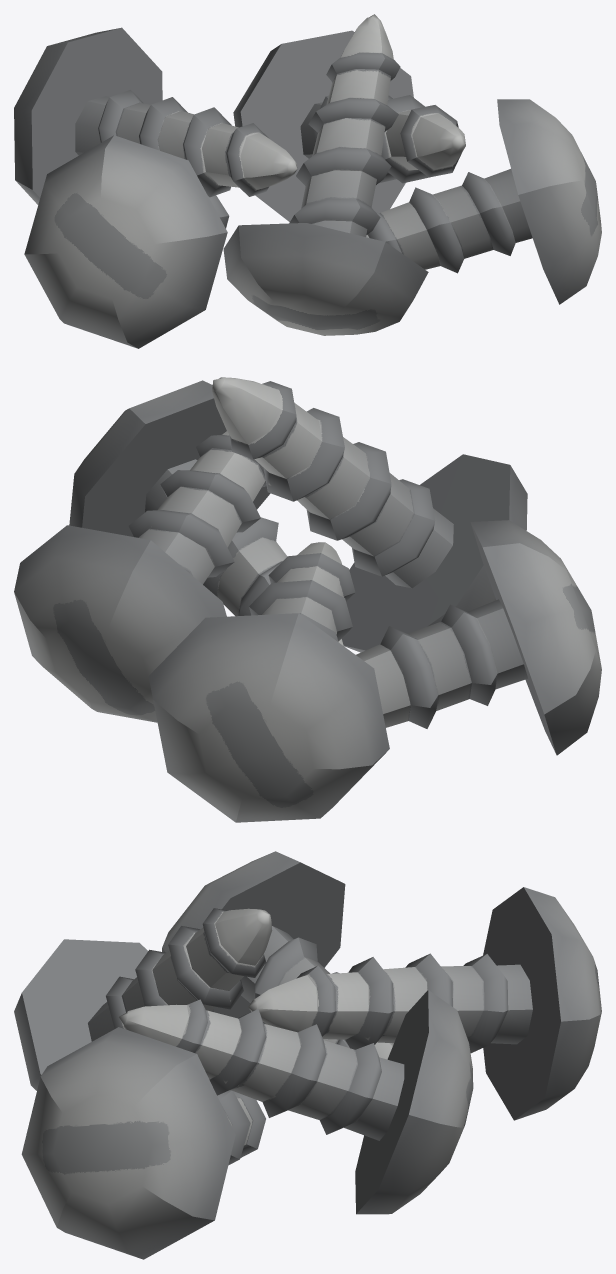
File: group_of_screws.fbx
3 views of the same model, one above another, from view 1: azimuth 30°, elevation 25°; view 2: azimuth 150°, elevation 25°; view 3: azimuth 270°, elevation 25° (orthographic). The views are drawn at different scales.
Parts seen in each view (by area): view 1: group_of_screws; view 2: group_of_screws; view 3: group_of_screws.
Part boxes in pixels (x1=…): group_of_screws: x1=14, y1=14, x2=601, y2=348; group_of_screws: x1=14, y1=377, x2=601, y2=822; group_of_screws: x1=14, y1=851, x2=601, y2=1259.
Bounding box in the file's own units: 7.95 × 3.94 × 7.52.
